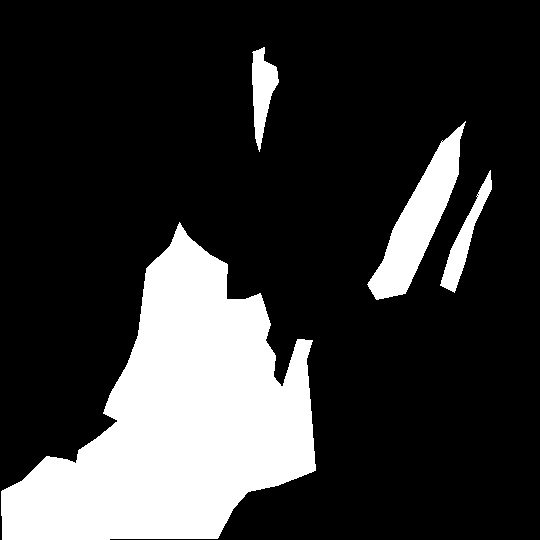Fire: (121, 236, 307, 540), (422, 126, 457, 212)
